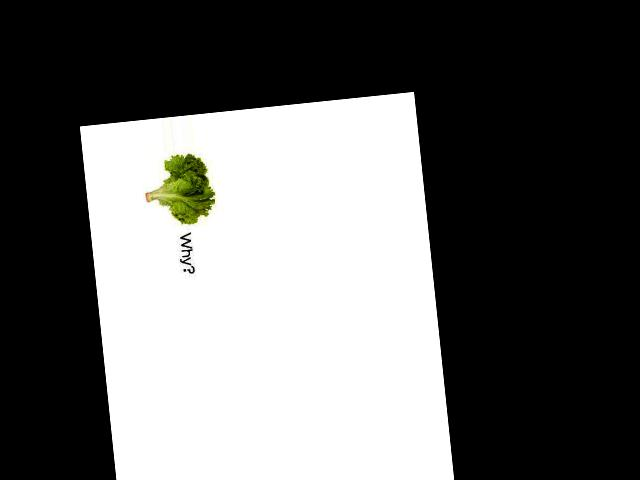lettuce: (136, 147, 227, 269)
